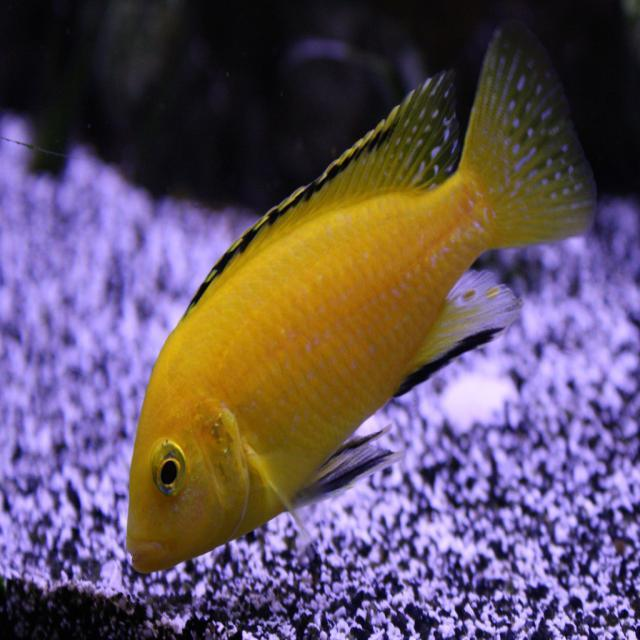YellowCichlid: (80, 3, 608, 589)
